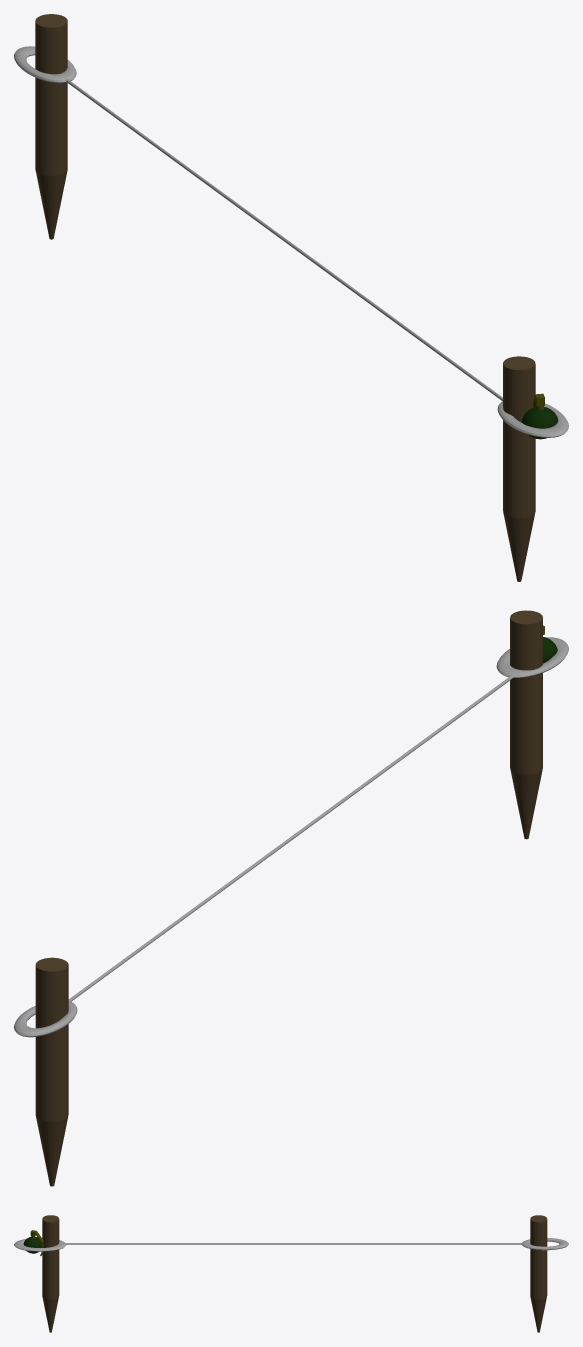
Rendered from StretchingWithGrenade.fbx.
3 renders of one model, top to bottom at view 1: azimuth 30°, elevation 25°; view 2: azimuth 150°, elevation 25°; view 3: azimuth 270°, elevation 25°, orthographic. The views are drawn at different scales.
Visible parts, largest first — view 1: Stick.001, Stick, Wire, Node, Node.001, Grenade; view 2: Stick.001, Stick, Wire, Node, Node.001; view 3: Stick.001, Stick, Wire, Node.001, Node, Grenade.
Part boxes in pixels (x1=…): Stick.001: x1=35, y1=14, x2=67, y2=239; Stick: x1=503, y1=356, x2=535, y2=581; Wire: x1=66, y1=79, x2=502, y2=400; Node: x1=497, y1=401, x2=568, y2=437; Node.001: x1=14, y1=46, x2=76, y2=83; Grenade: x1=522, y1=393, x2=558, y2=439; Stick.001: x1=35, y1=957, x2=68, y2=1186; Stick: x1=510, y1=610, x2=542, y2=839; Wire: x1=68, y1=675, x2=513, y2=1001; Node: x1=496, y1=637, x2=568, y2=677; Node.001: x1=14, y1=1001, x2=77, y2=1037; Stick.001: x1=530, y1=1215, x2=547, y2=1332; Stick: x1=42, y1=1215, x2=59, y2=1332; Wire: x1=65, y1=1243, x2=522, y2=1244; Node.001: x1=521, y1=1238, x2=568, y2=1250; Node: x1=14, y1=1239, x2=66, y2=1251; Grenade: x1=23, y1=1230, x2=43, y2=1255.
Size of the model in its own units: 25.06 by 103 by 455.
